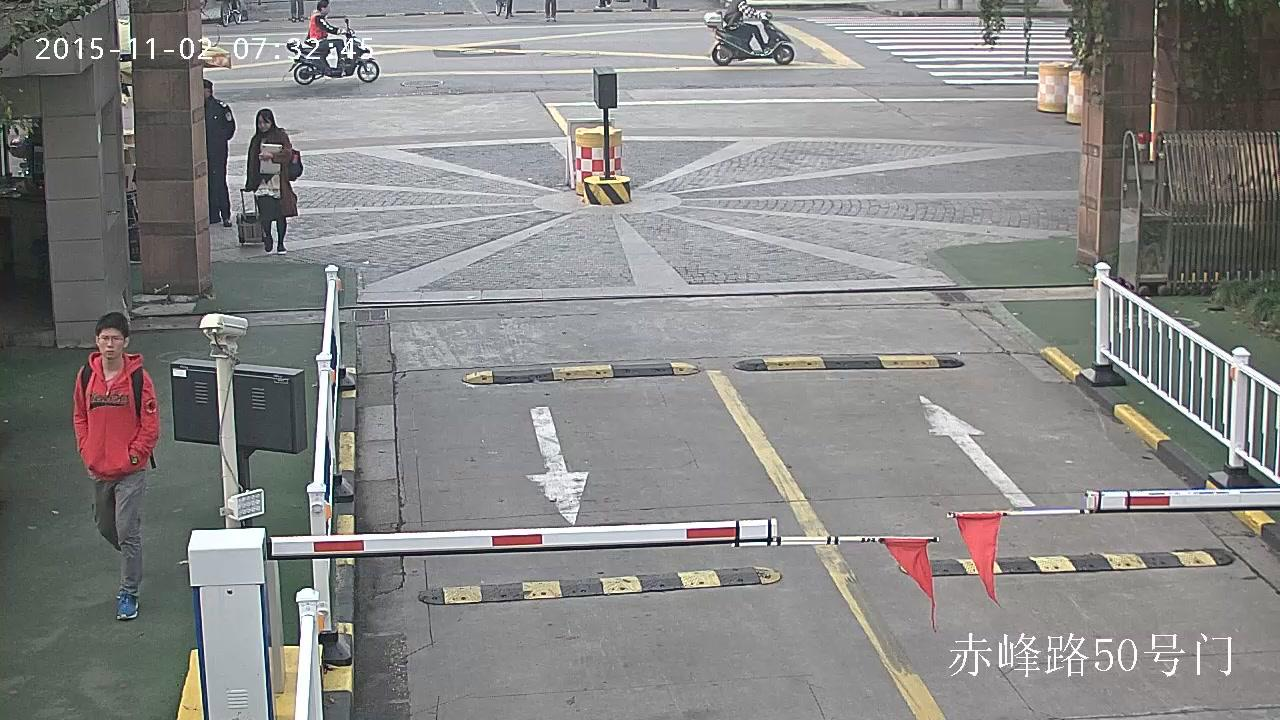face: (97, 328, 123, 358), (258, 115, 272, 131), (202, 88, 209, 98), (325, 4, 329, 13)
